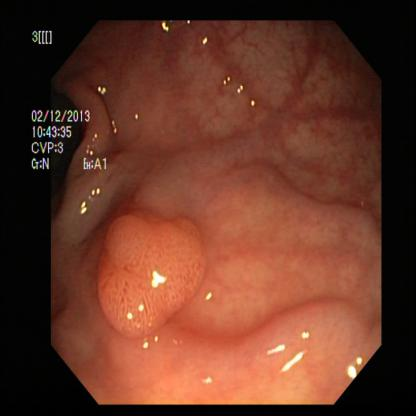Labels: (28, 31, 109, 180)
Polyps: (86, 223, 209, 337)
